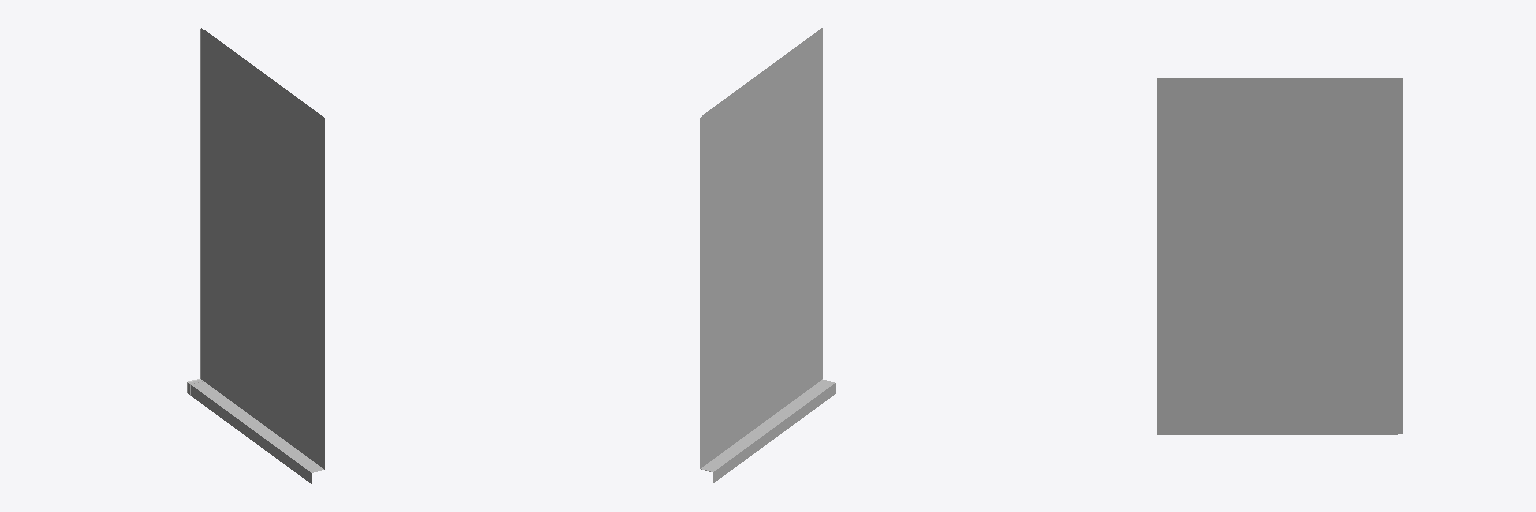
The model's file is SM_Wall_02.obj.
The picture shows the model from 3 angles: view 1: azimuth 30°, elevation 25°; view 2: azimuth 150°, elevation 25°; view 3: azimuth 270°, elevation 25°; orthographic projection.
Parts seen in each view (by area): view 1: SM_Wall_02; view 2: SM_Wall_02; view 3: SM_Wall_02.
Part boxes in pixels (left/top/right/bottom): SM_Wall_02: left=187, top=28, right=324, bottom=483; SM_Wall_02: left=700, top=28, right=835, bottom=482; SM_Wall_02: left=1157, top=78, right=1402, bottom=434.
Bounding box in the file's own units: 0.2046 × 4.97 × 3.06.